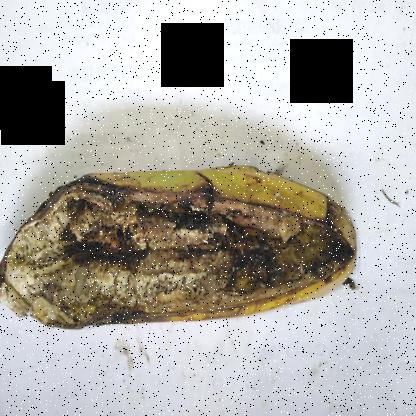rotten: (0, 155, 367, 341)
